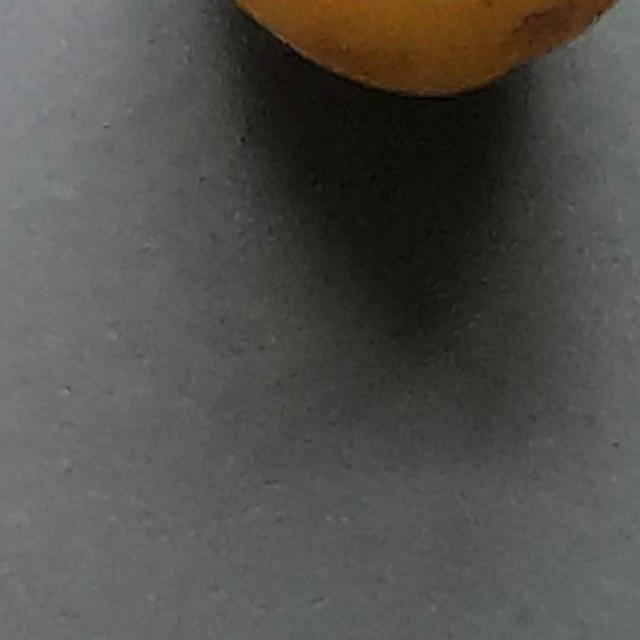potato: (23, 0, 640, 236)
